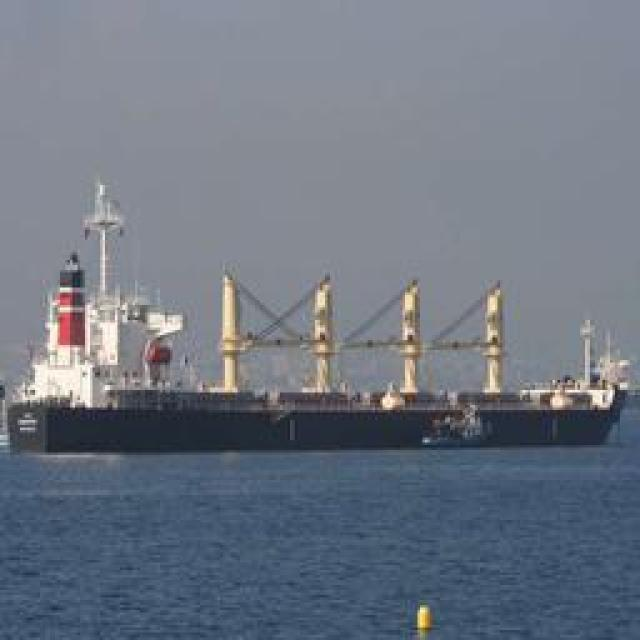Ship: (29, 256, 622, 454)
